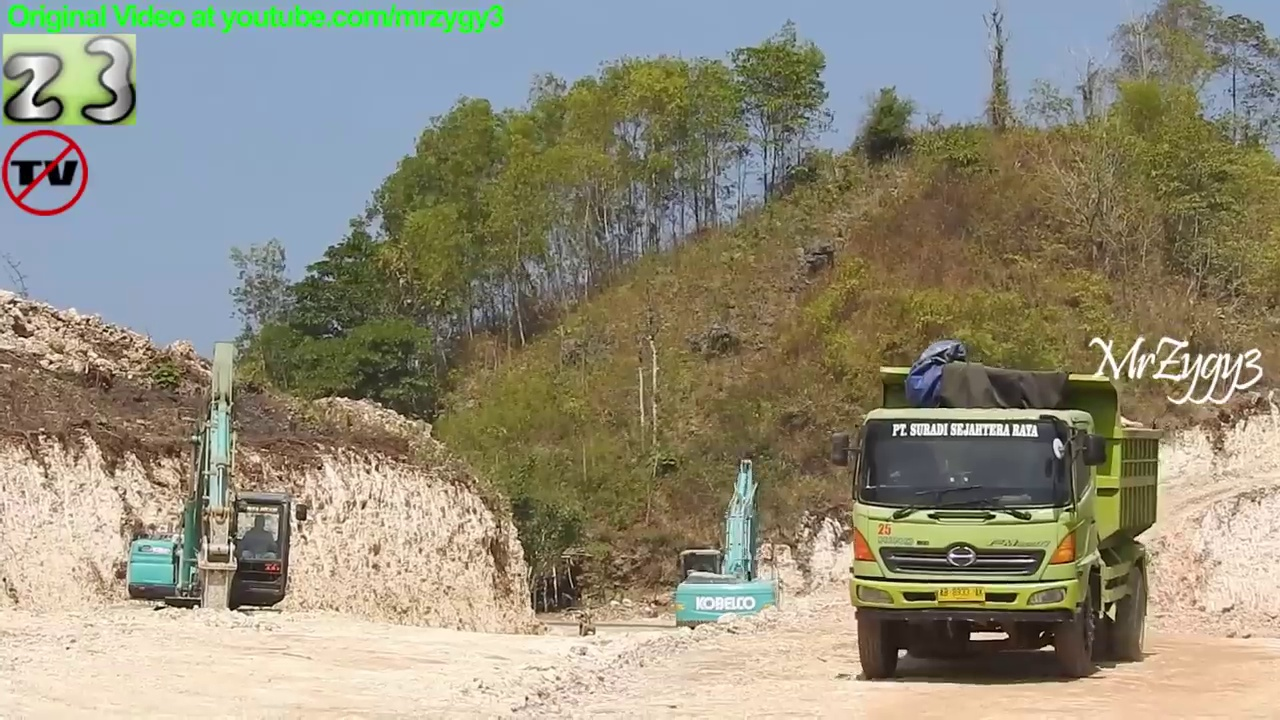excavator: (119, 337, 315, 667), (667, 454, 788, 664)
truck: (824, 359, 1167, 689)
